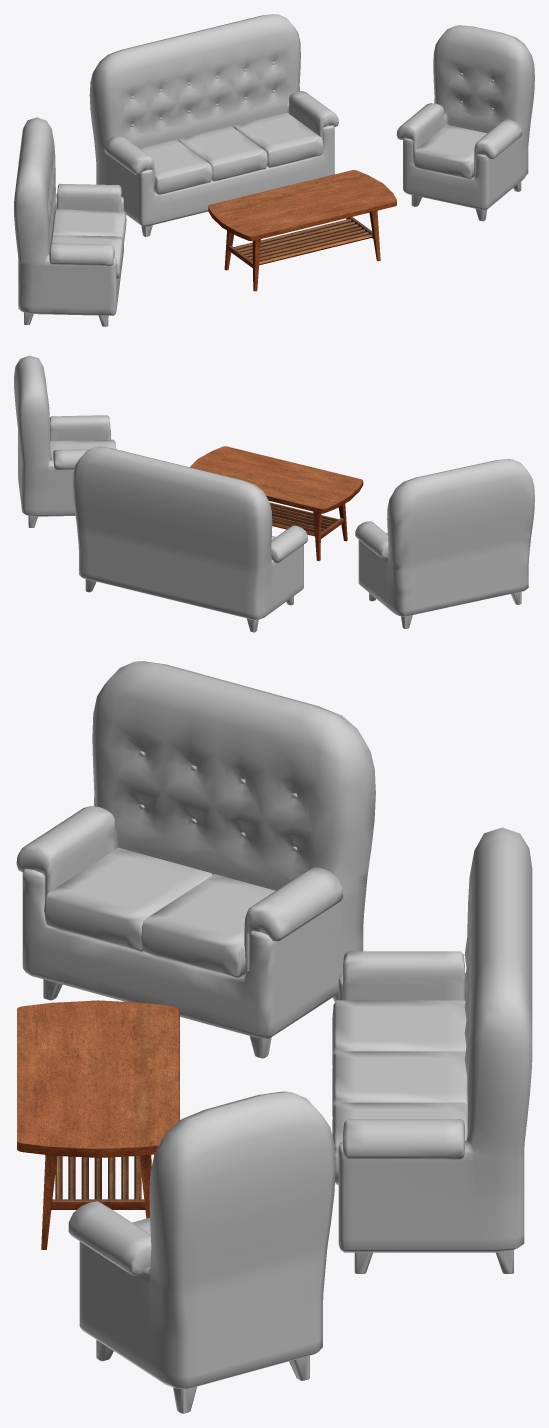
The picture shows the model from 3 angles, top to bottom: view 1: azimuth 30°, elevation 25°; view 2: azimuth 150°, elevation 25°; view 3: azimuth 270°, elevation 25°; orthographic projection. The views are drawn at different scales.
Visible parts, largest first — view 1: SOFA3, SOFA1, SOFA2, TABLE; view 2: SOFA3, SOFA2, SOFA1, TABLE; view 3: SOFA2, SOFA3, SOFA1, TABLE.
Part boxes in pixels (x1,y1,x2,y2): SOFA3: (89, 14, 338, 236); SOFA1: (396, 25, 534, 221); SOFA2: (14, 117, 126, 326); TABLE: (208, 170, 396, 291); SOFA3: (72, 446, 307, 632); SOFA2: (355, 459, 534, 628); SOFA1: (14, 355, 116, 527); TABLE: (190, 446, 363, 560); SOFA2: (16, 661, 375, 1058); SOFA3: (332, 827, 532, 1273); SOFA1: (68, 1091, 335, 1413); TABLE: (17, 1000, 179, 1249).
Size of the model in its own units: 935 by 259 by 415.
